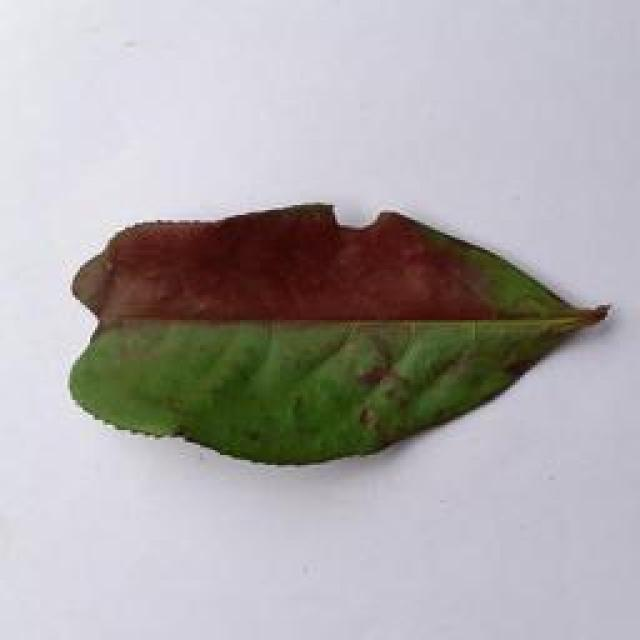Red Leaf Spot: (56, 189, 634, 469)
